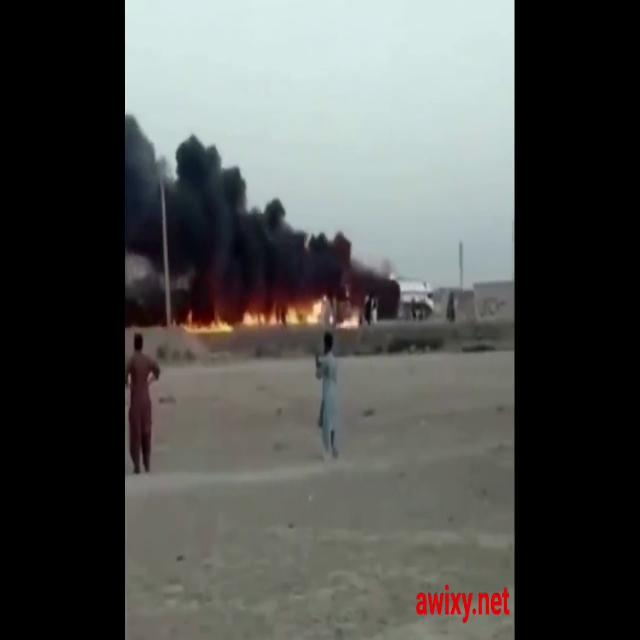Fire: (186, 299, 374, 340)
Smoke: (126, 115, 401, 325)
